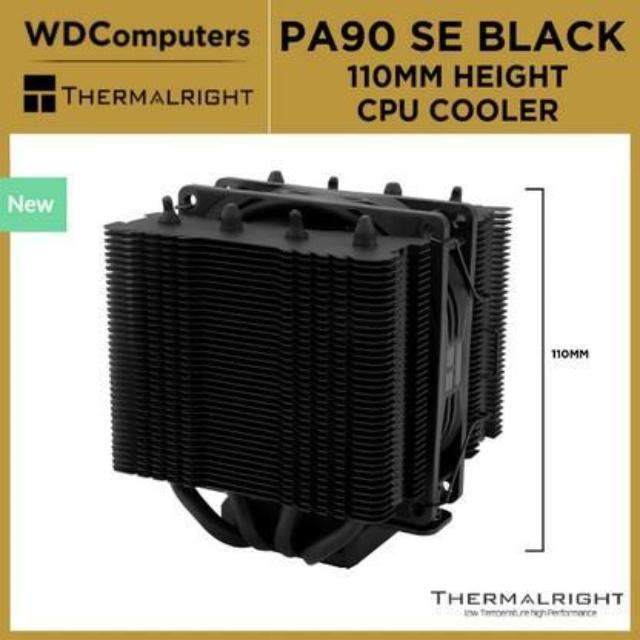CPU_Fan: (102, 168, 516, 572)
